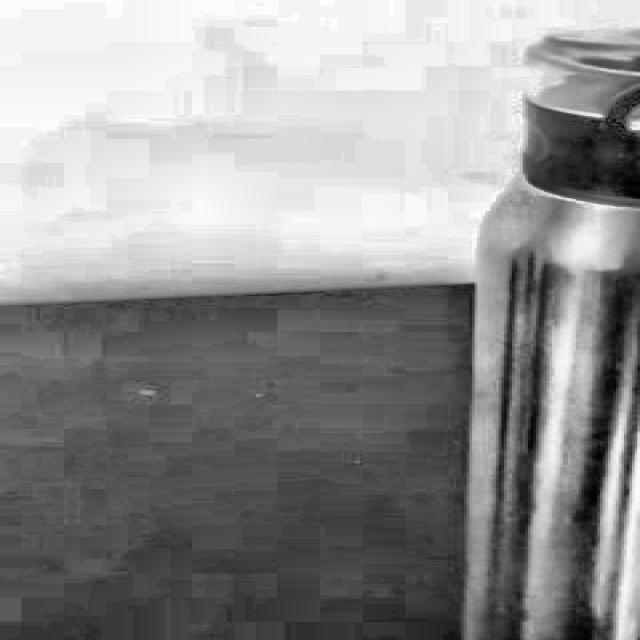bottle: (456, 32, 640, 640)
